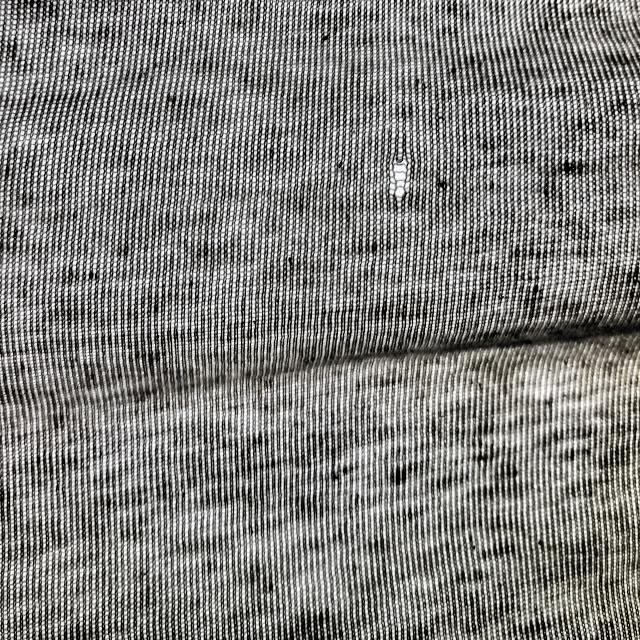Hole: (380, 150, 412, 214)
